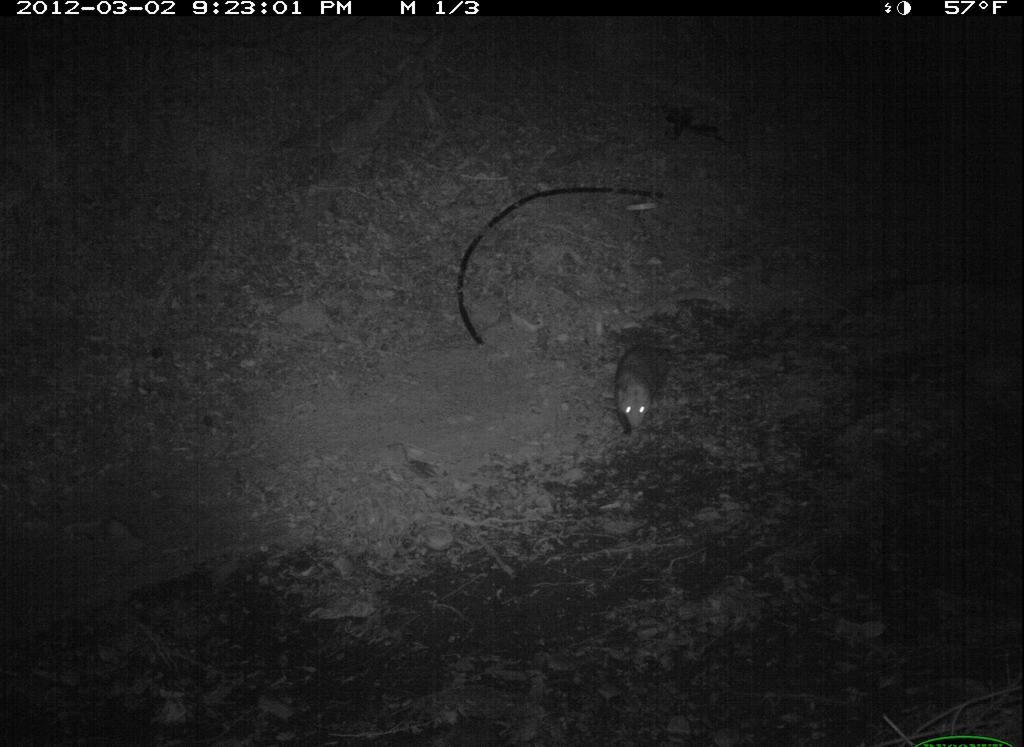opossum: (586, 308, 698, 445)
